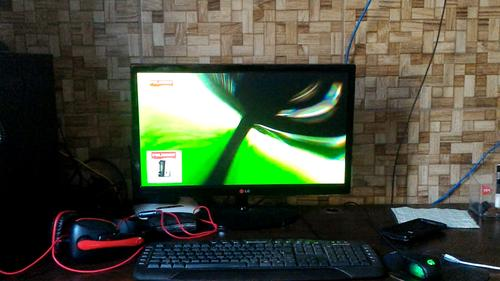Polishop #1: (146, 150, 182, 183)
